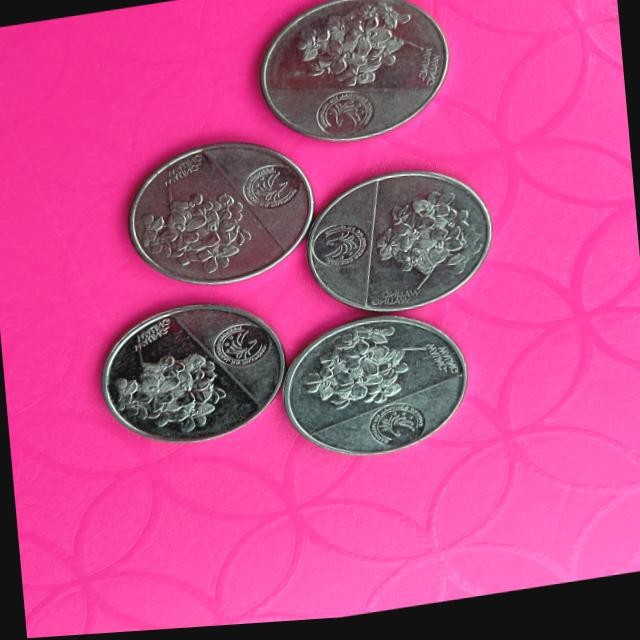1_New_Back: (109, 348, 221, 443), (296, 8, 414, 97), (372, 197, 474, 297), (136, 194, 250, 283), (297, 336, 404, 427)
